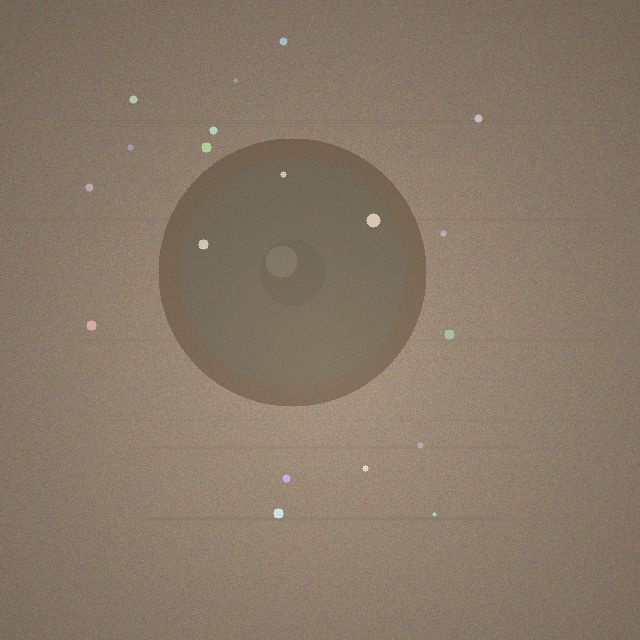overburn: (158, 138, 426, 406)
